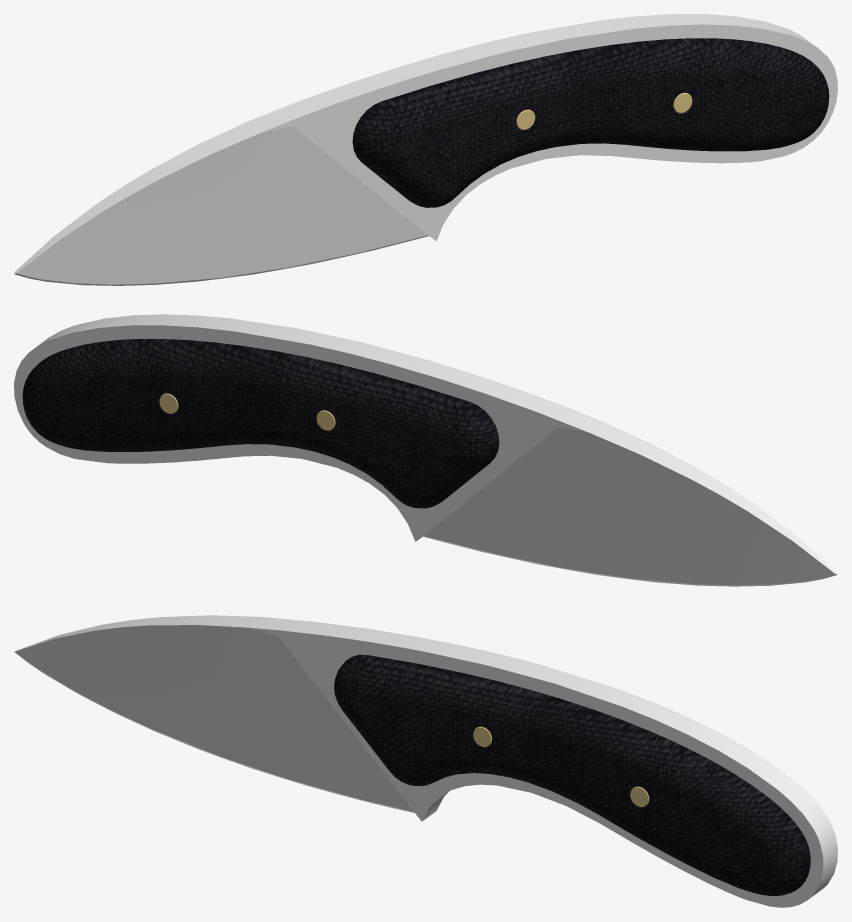
Rendered from miniedc_v2.glb.
3 renders of one model, top to bottom at view 1: azimuth 30°, elevation 25°; view 2: azimuth 150°, elevation 25°; view 3: azimuth 330°, elevation 25°, orthographic.
Visible parts, largest first — view 1: blade, scales, pins; view 2: blade, scales, pins; view 3: blade, scales, pins.
Boxes of the visible parts, box(x1,y1,x2,y2) form: blade: box(14, 14, 837, 285); scales: box(352, 38, 829, 207); pins: box(516, 92, 692, 129); blade: box(14, 314, 837, 586); scales: box(22, 339, 499, 508); pins: box(159, 393, 335, 430); blade: box(14, 615, 837, 907); scales: box(334, 654, 810, 895); pins: box(473, 726, 649, 806).
Bounding box in the file's own units: 12.87 × 2.61 × 1.2.
Materials: 3 (1 with a texture image).
